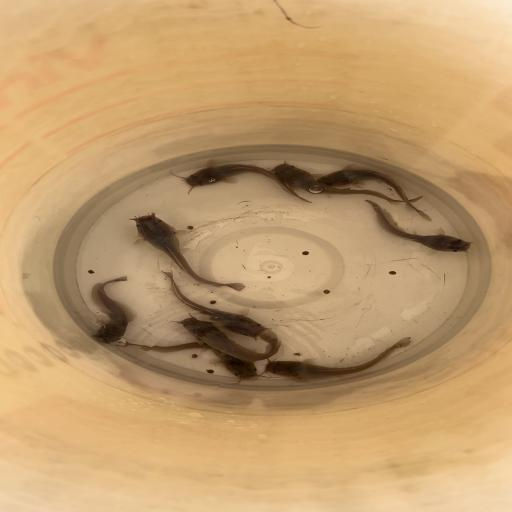lele: (127, 208, 246, 292), (154, 270, 269, 339), (269, 160, 424, 204), (264, 336, 412, 380), (316, 166, 433, 221), (364, 198, 474, 254), (115, 340, 262, 380), (179, 161, 314, 204), (172, 314, 282, 362), (83, 277, 138, 343)
